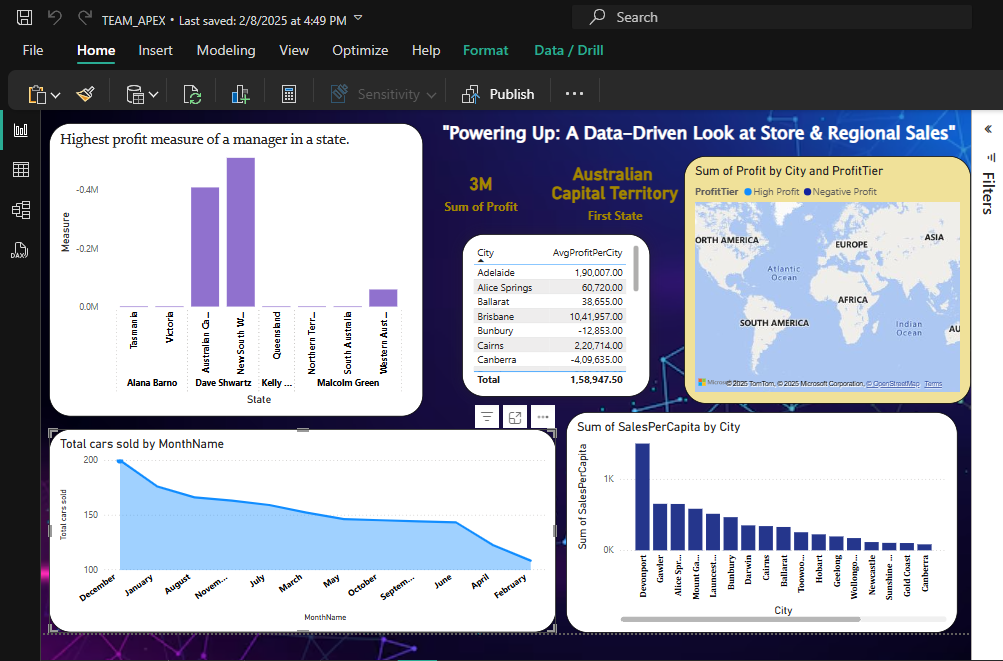

What the dashboard file says about the page in this screenshot:
{"tool":"powerbi","page":{"name":"Page 1","canvas":[1280,720],"ordinal":0},"visuals":[{"type":"clusteredColumnChart","title":"Highest profit measure of a manager in a state.","fields":{"Category":["Budget Electric Cars.Regional Manager","Budget Electric Cars.State"],"Y":["Budget Electric Cars.Measure"]},"box":[10.7,17.4,514.8,403.5],"z":0},{"type":"areaChart","fields":{"Category":["Sales Timeline.MonthName"],"Y":["Sales Timeline.TotalCarsSoldPerMonth"]},"box":[10.7,439.7,698.5,280.2],"z":1000},{"type":"tableEx","title":"AvgProfit by City","fields":{"Values":["Budget Electric Cars.City","Budget Electric Cars.AvgProfitPerCity"]},"box":[580,170,258.8,223.8],"z":2000},{"type":"filledMap","fields":{"Category":["Budget Electric Cars.City"],"Series":["Budget Electric Cars.ProfitTier"]},"box":[884.8,63,395.5,340.5],"z":3000},{"type":"textbox","box":[547.5,8.8,732.5,53.8],"z":4000},{"type":"columnChart","fields":{"Category":["Budget Electric Cars.City"],"Y":["Budget Electric Cars.SalesPerCapita"]},"box":[722.6,415.6,538.9,304.3],"z":5000},{"type":"card","fields":{"Values":["Budget Electric Cars.Profit"]},"box":[516.1,63,178.3,96.5],"z":6000},{"type":"card","fields":{"Values":["Budget Electric Cars.State"]},"box":[695,62.5,190,97.5],"z":7000}]}

Visuals, with their boxes on the page's 1280x720 design canvas (x1, y1, x2, y2). These are canvas units, not pixel positions in the 1003x661 screenshot, which may show the page scaled, cropped or inside an application window:
"Highest profit measure of a manager in a state." clusteredColumnChart: [left=11, top=17, right=526, bottom=421]
areaChart - Sales Timeline.MonthName x Sales Timeline.TotalCarsSoldPerMonth: [left=11, top=440, right=709, bottom=720]
"AvgProfit by City" tableEx: [left=580, top=170, right=839, bottom=394]
filledMap - Budget Electric Cars.City x Budget Electric Cars.ProfitTier: [left=885, top=63, right=1280, bottom=404]
textbox: [left=548, top=9, right=1280, bottom=63]
columnChart - Budget Electric Cars.City x Budget Electric Cars.SalesPerCapita: [left=723, top=416, right=1262, bottom=720]
card - Budget Electric Cars.Profit: [left=516, top=63, right=694, bottom=160]
card - Budget Electric Cars.State: [left=695, top=62, right=885, bottom=160]
